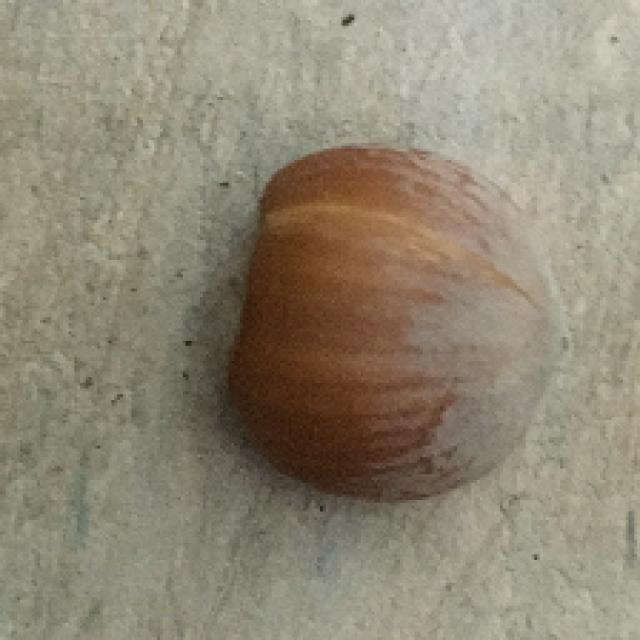qualityHazelnut: (206, 138, 566, 507)
